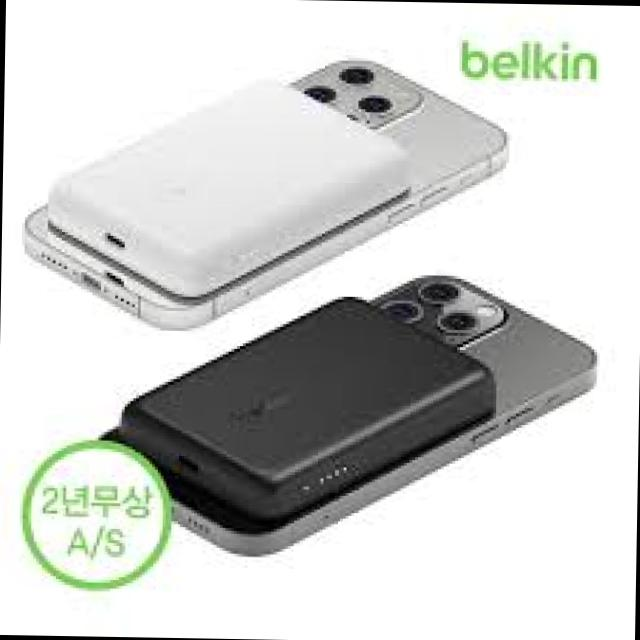power_bank: (114, 287, 497, 526), (52, 74, 416, 302)
